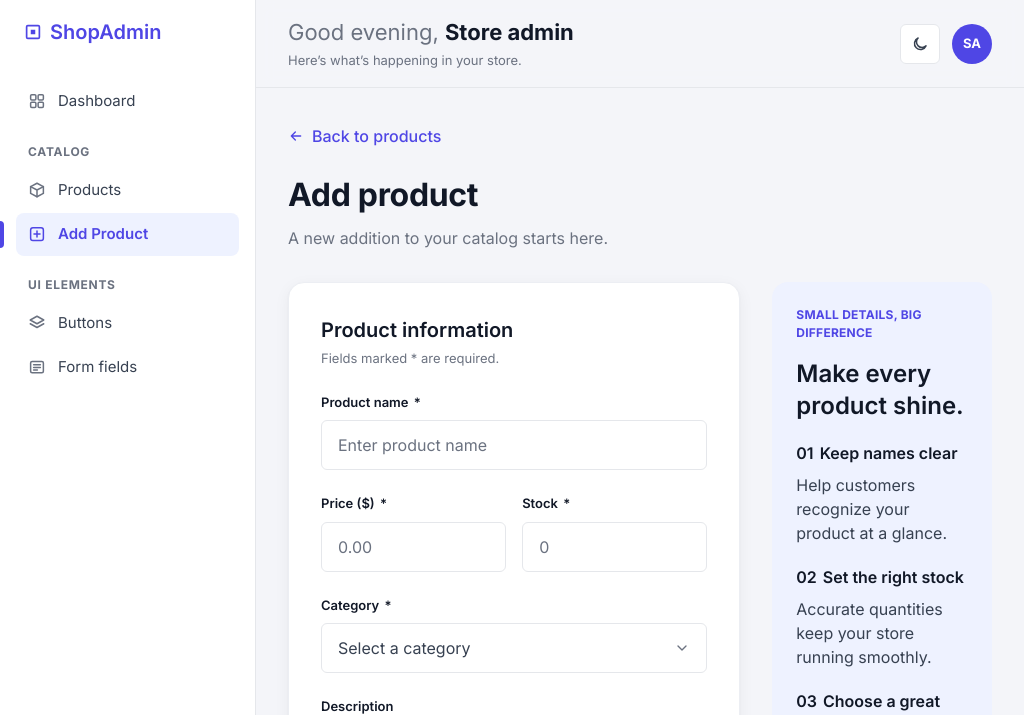
Test: Add product draft › autosaves a draft and restores it after leaving the page
This screenshot has width=1024, height=715.
Type "Travel headphones" into the field labelled "Product name *".
click(514, 445); type("Travel headphones")  # box [321,420,707,470]
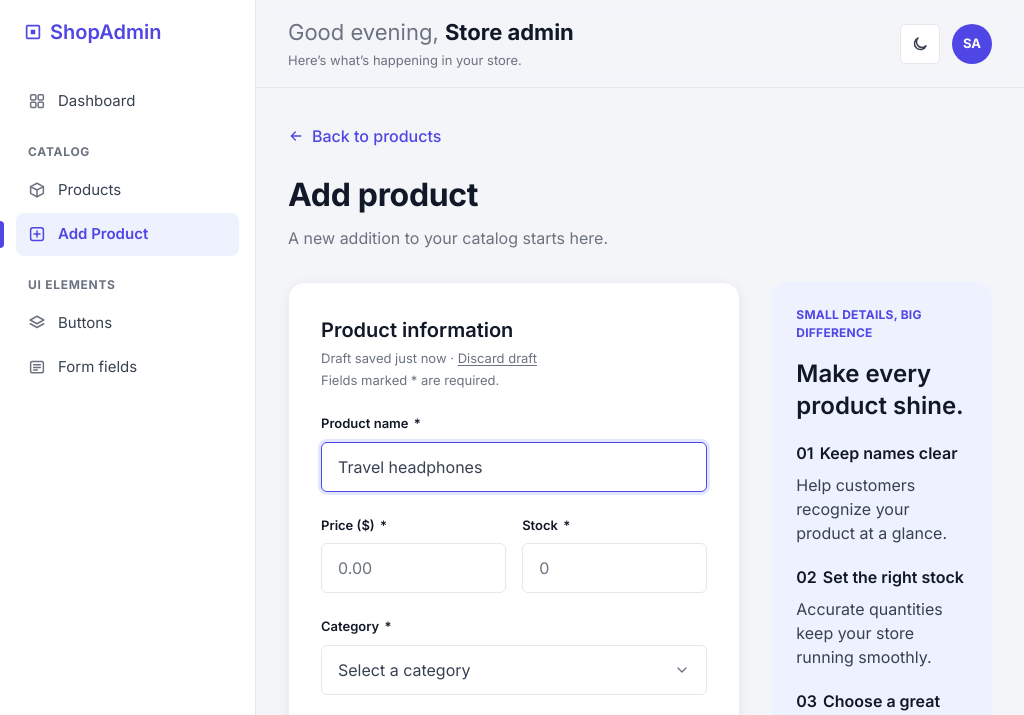
Result: the text "Draft saved just now · Discard draft" is shown at [321,349,537,369]
